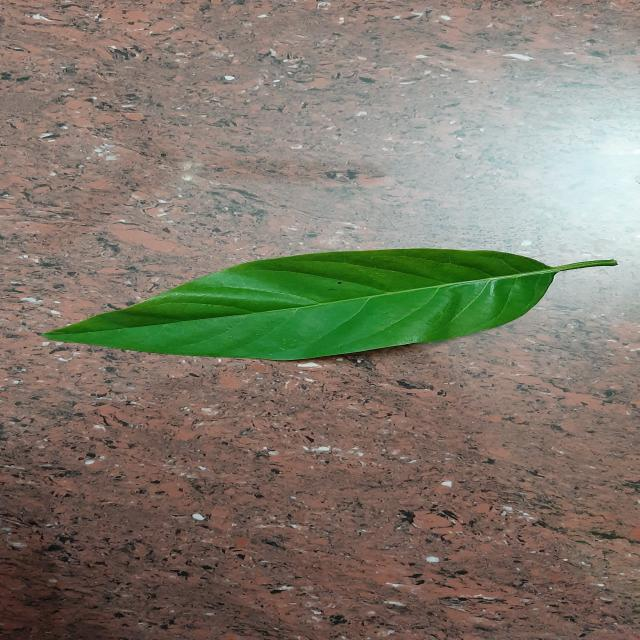seethaphala: (46, 249, 618, 360)
